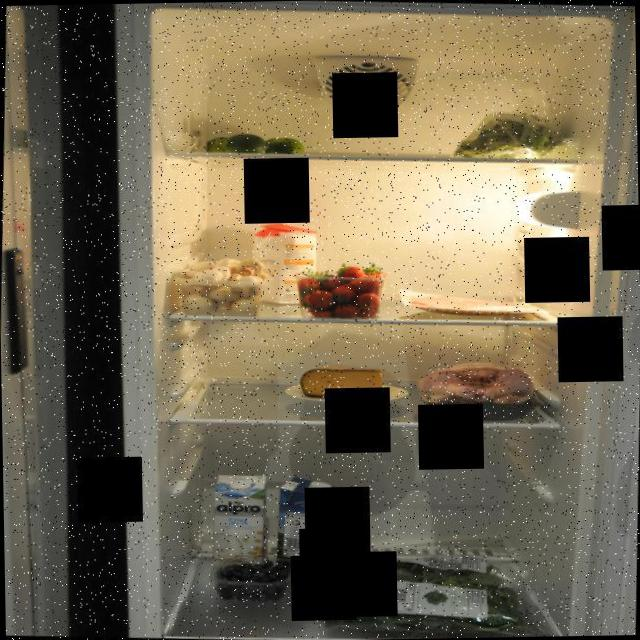Carne cerdo: (408, 288, 538, 320)
Carne pollo: (417, 354, 548, 420)
Champiñones: (178, 253, 270, 317)
Leche: (270, 474, 344, 582), (204, 468, 274, 567)
Queso: (298, 359, 391, 406)
